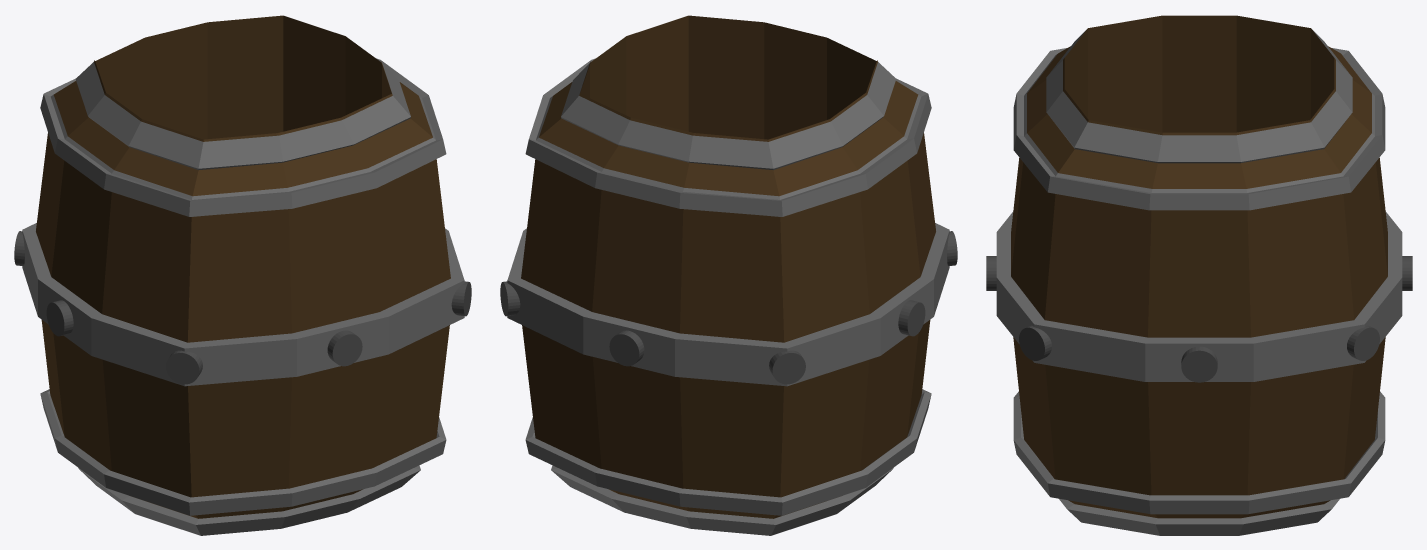
Rendered from barrel_open.fbx.
3 views of the same model, side by side, from view 1: azimuth 30°, elevation 25°; view 2: azimuth 150°, elevation 25°; view 3: azimuth 270°, elevation 25° (orthographic).
Visible parts, largest first — view 1: BARREL_OPEN; view 2: BARREL_OPEN; view 3: BARREL_OPEN.
Boxes of the visible parts, left/top/right/bottom form: BARREL_OPEN: left=14, top=15, right=471, bottom=535; BARREL_OPEN: left=500, top=15, right=957, bottom=535; BARREL_OPEN: left=986, top=15, right=1412, bottom=535.
Bounding box in the file's own units: 312 × 313 × 301.
